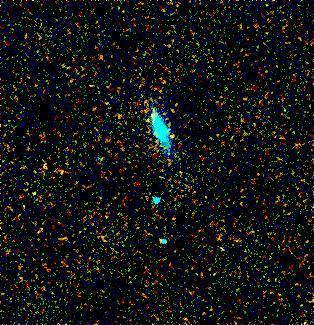star: (157, 121, 187, 151)
